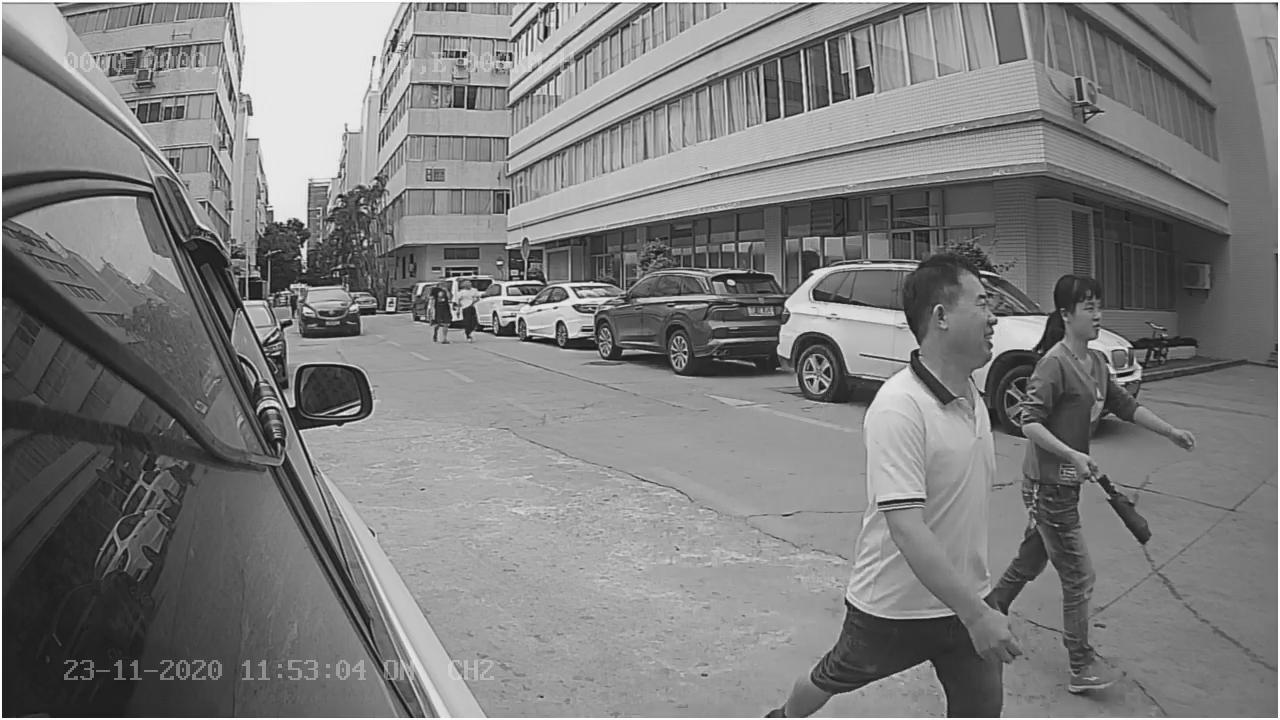person: (855, 260, 1008, 688), (1008, 267, 1154, 661)
